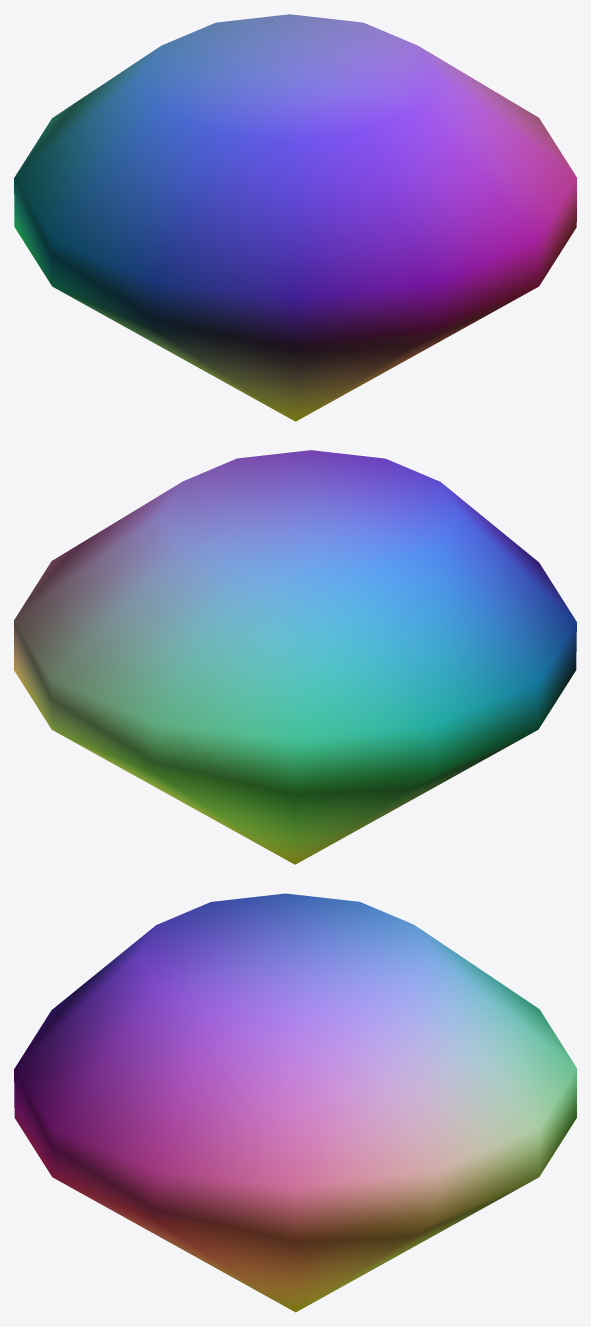
File: SM_Pickup_Gem_Diamond_2.fbx
3 renders of one model, top to bottom at view 1: azimuth 30°, elevation 25°; view 2: azimuth 150°, elevation 25°; view 3: azimuth 270°, elevation 25°, orthographic.
Visible parts, largest first — view 1: SM_Pickup_Gem_Diamond_2; view 2: SM_Pickup_Gem_Diamond_2; view 3: SM_Pickup_Gem_Diamond_2.
Boxes of the visible parts, x1=… form: SM_Pickup_Gem_Diamond_2: x1=14, y1=14, x2=576, y2=421; SM_Pickup_Gem_Diamond_2: x1=14, y1=450, x2=576, y2=864; SM_Pickup_Gem_Diamond_2: x1=14, y1=893, x2=576, y2=1312.
Size of the model in its own units: 0.1999 by 0.1377 by 0.1999.
